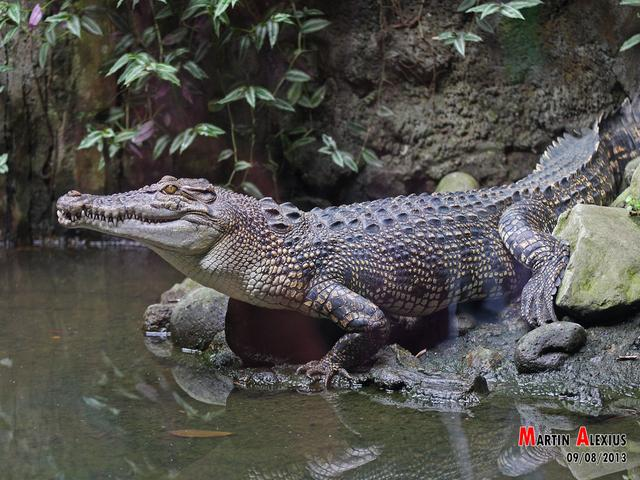crocodile: (33, 142, 615, 376)
